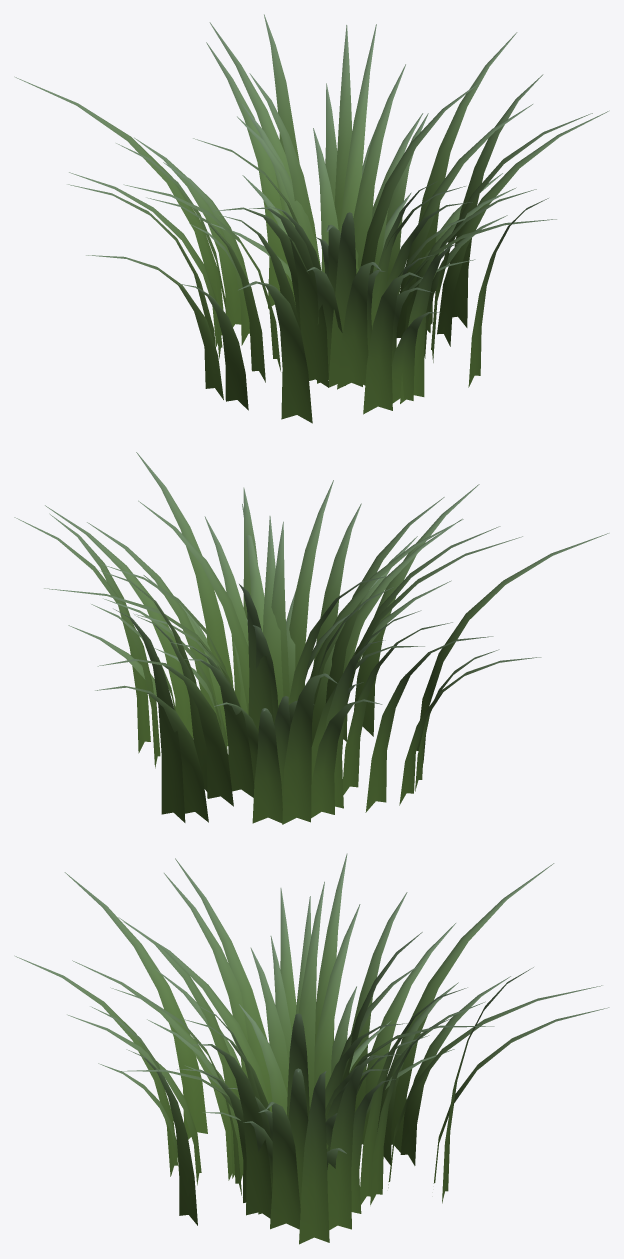
Rendered from Silver Bank Grass.glb.
3 views of the same model, one above another, from view 1: azimuth 30°, elevation 25°; view 2: azimuth 150°, elevation 25°; view 3: azimuth 270°, elevation 25° (orthographic). The views are drawn at different scales.
Parts seen in each view (by area): view 1: Silver Bank Grass; view 2: Silver Bank Grass; view 3: Silver Bank Grass.
Boxes of the visible parts, bbox=[...] form: Silver Bank Grass: bbox=[14, 14, 609, 423]; Silver Bank Grass: bbox=[14, 452, 609, 824]; Silver Bank Grass: bbox=[14, 853, 609, 1244].
Size of the model in its own units: 1.43 by 0.6555 by 1.47.
